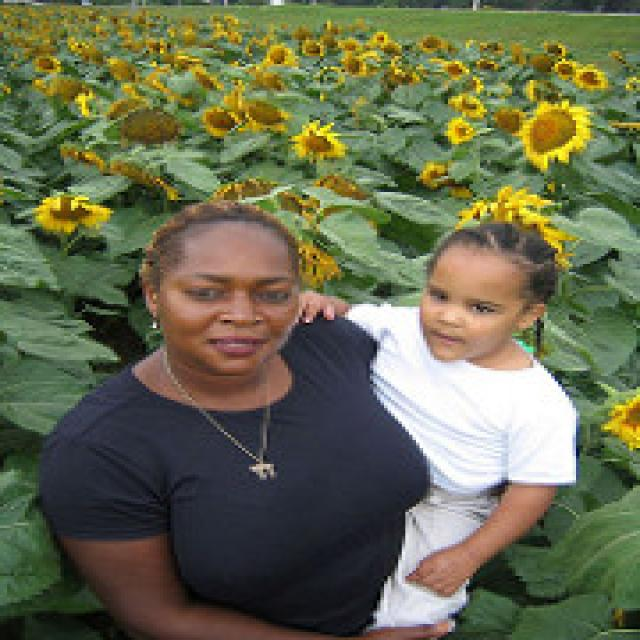sunflower: (21, 190, 108, 237), (522, 102, 590, 160), (603, 389, 640, 452), (294, 120, 344, 158), (576, 64, 609, 91)
